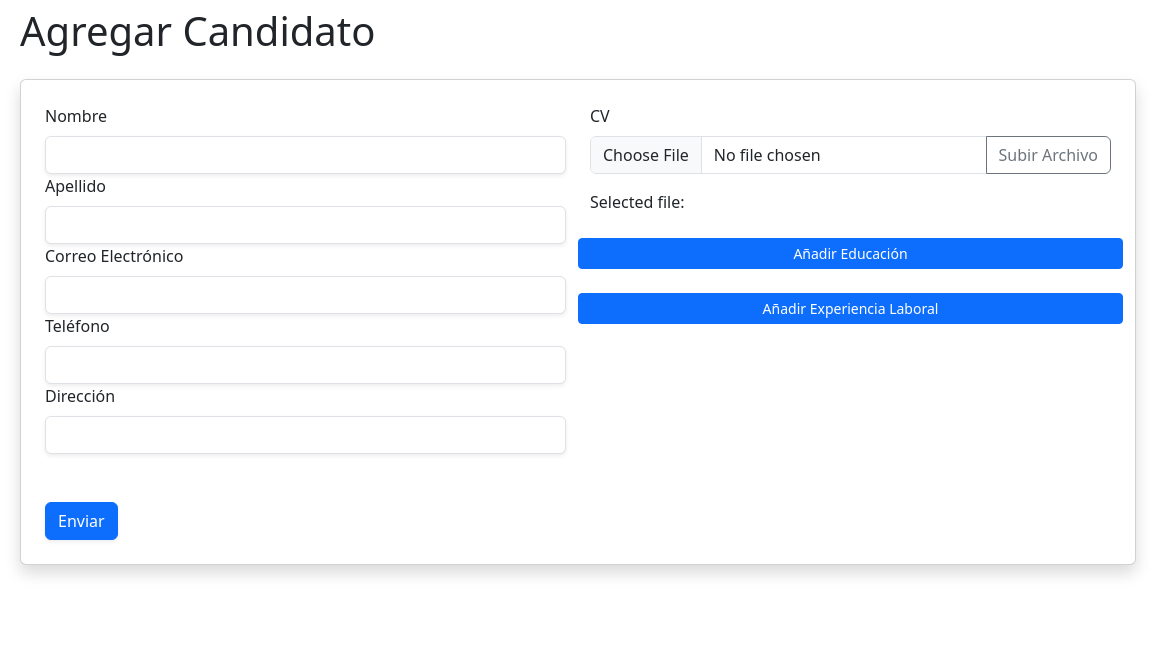
it: AddCandidateForm Component › Manejo de Secciones Dinámicas - Educación › debe_eliminar_educacion_al_hacer_clic
Click the button "Añadir Educación": x=850, y=254 [578,238,1123,269]
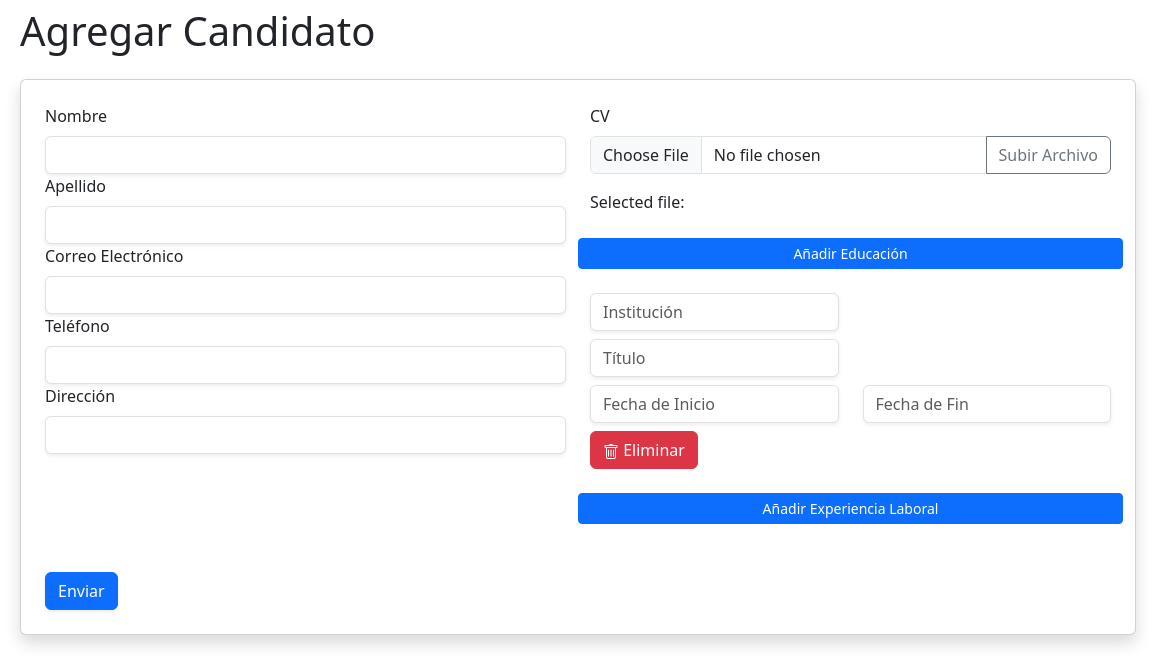
Click the button "Eliminar": x=644, y=450 [590,431,698,469]
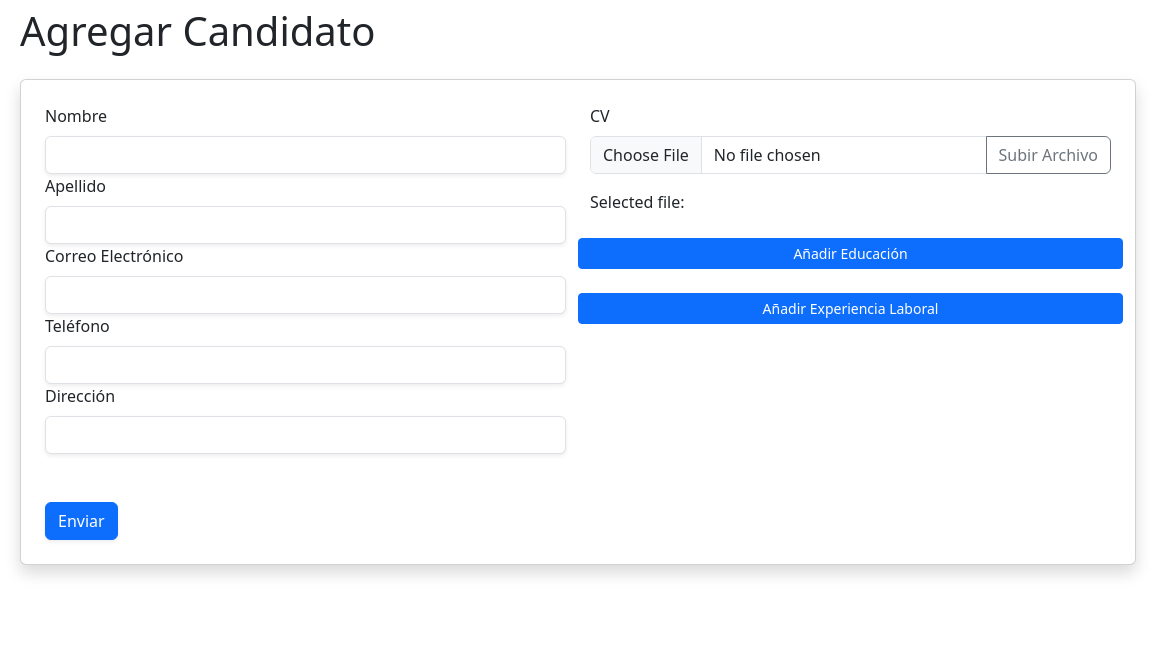
Now the field with placeholder "institución" is gone
